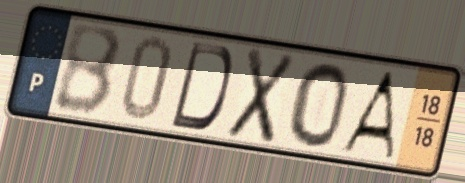0: (117, 33, 175, 124)
A: (336, 69, 399, 163)
B: (51, 23, 125, 119)
D: (167, 38, 236, 134)
O: (286, 60, 351, 150)
X: (223, 44, 299, 148)
